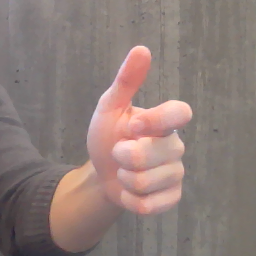G: (84, 45, 196, 215)
